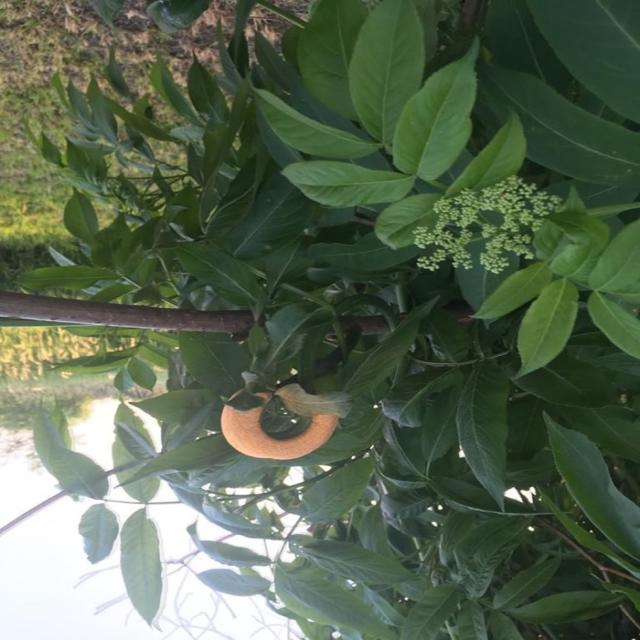Elderberry_rust: (218, 380, 350, 461)
